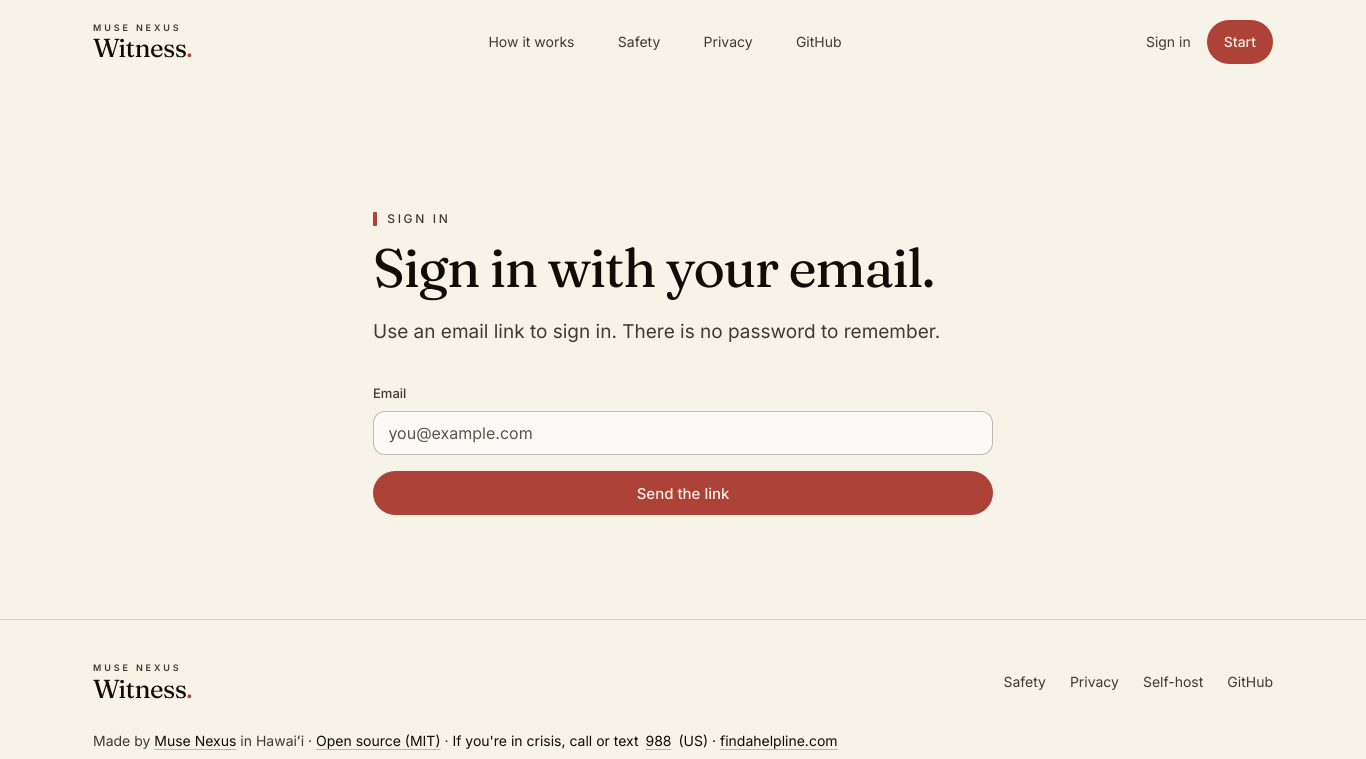
Test case: Sign in › acknowledges a resend request without claiming mail was delivered or revealing eligibility
Type "anyone@example.com" into the field labelled "Email".
click(683, 434); type("anyone@example.com")  # box x1=373 y1=412 x2=993 y2=456
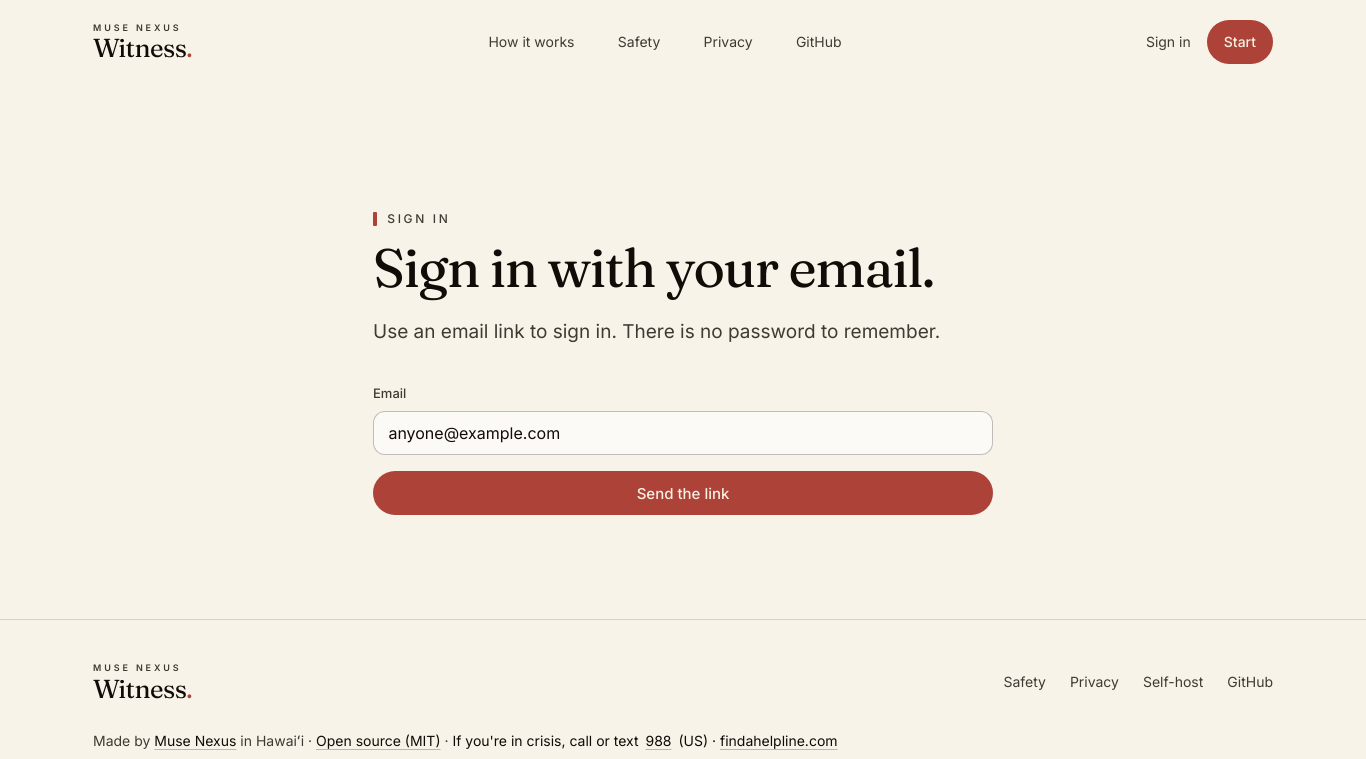
Click the button "Send the link".
click(683, 494)  # box x1=373 y1=472 x2=993 y2=516
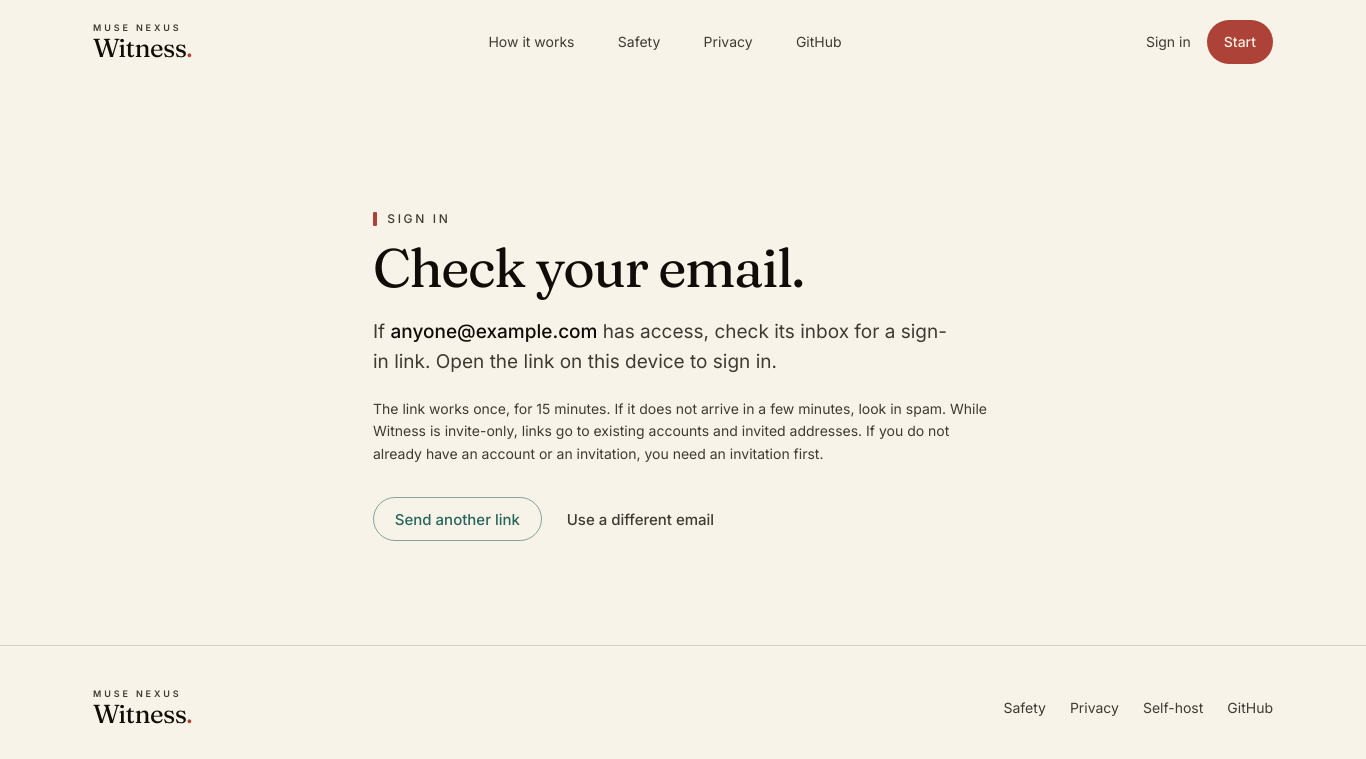
Check: the heading "Check your email." is shown, box x1=373 y1=234 x2=804 y2=301
Click the button "Send another link".
click(457, 519)  # box x1=373 y1=497 x2=542 y2=541
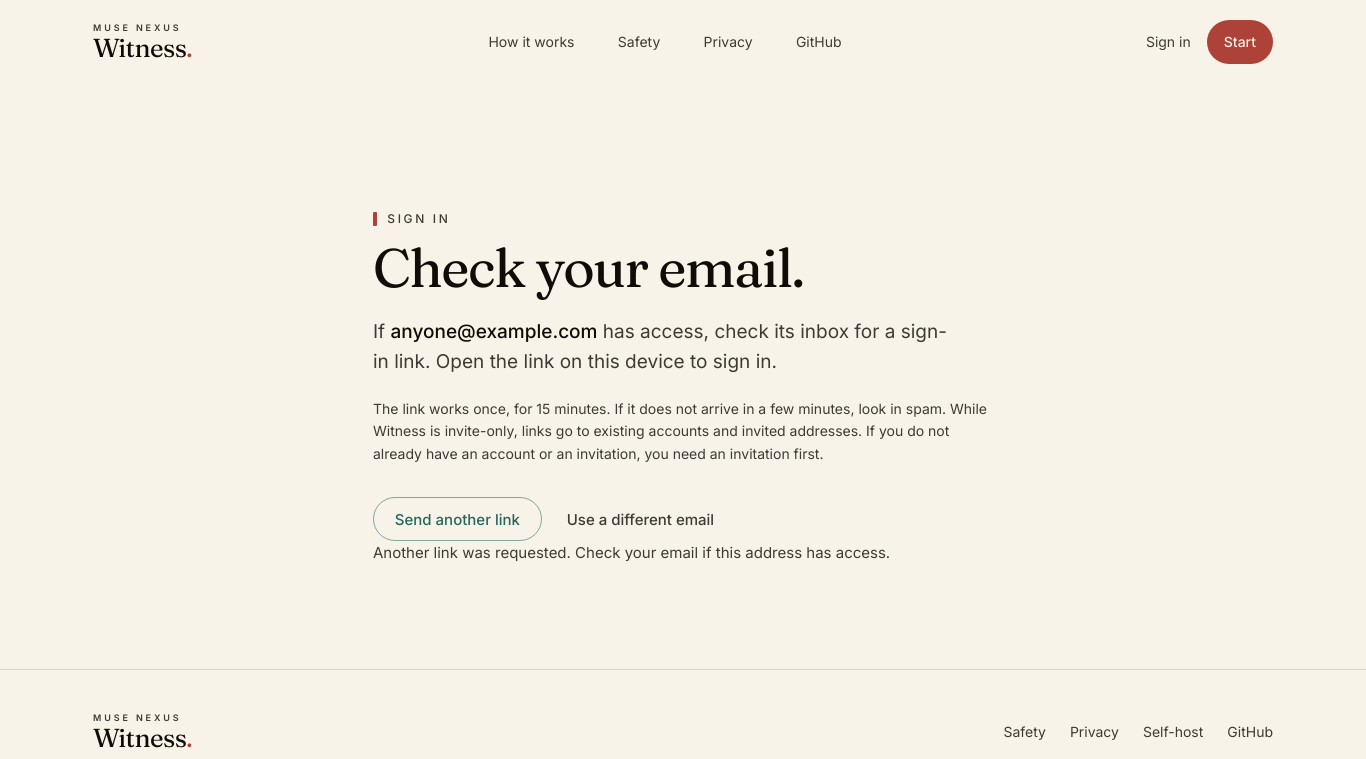
Check: the text "Another link was requested. Check your email if this address has access." is shown, box x1=373 y1=543 x2=890 y2=562
